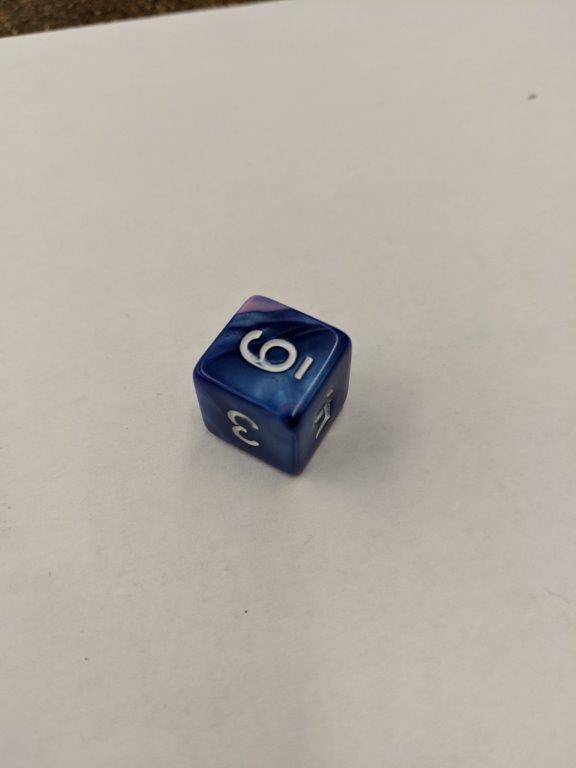d6-6: (192, 295, 355, 473)
